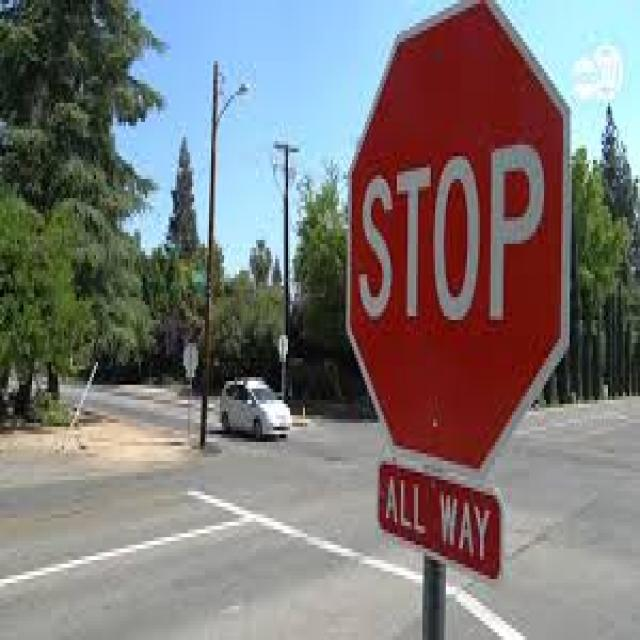stop-sign: (331, 71, 539, 372)
